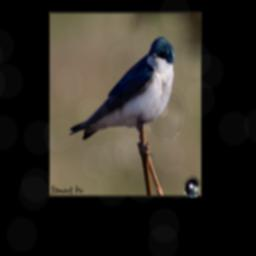Swallow: (68, 36, 175, 140)
